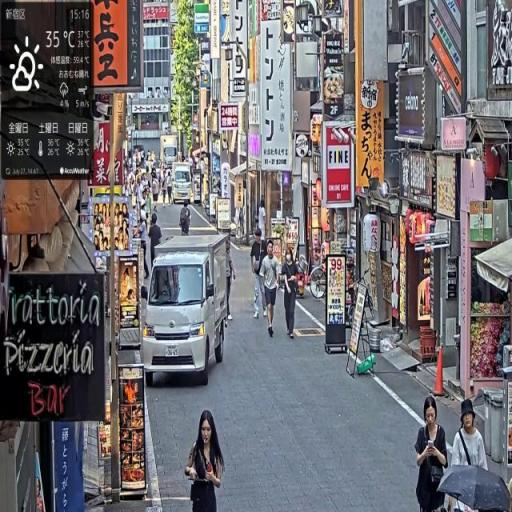person: (184, 409, 226, 512), (415, 394, 449, 512), (453, 403, 489, 465), (282, 241, 303, 342), (261, 239, 281, 341), (251, 228, 268, 319), (223, 240, 238, 323), (180, 200, 192, 237)
